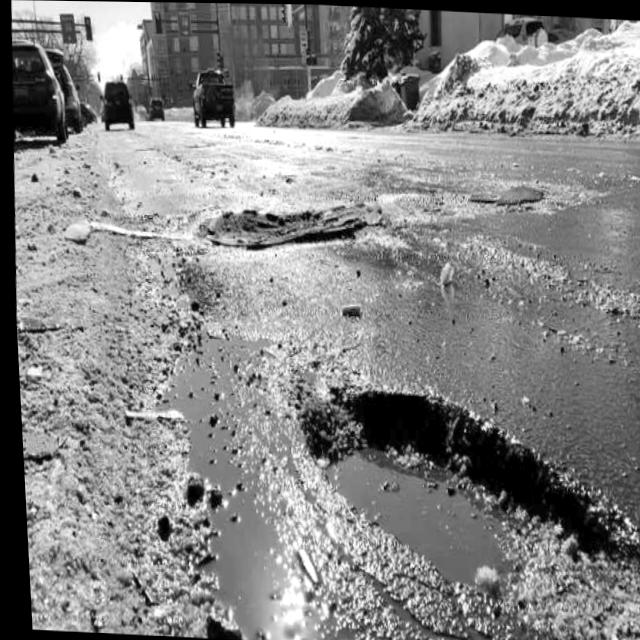pathole: (172, 329, 640, 640), (323, 451, 502, 582), (197, 202, 379, 248)
